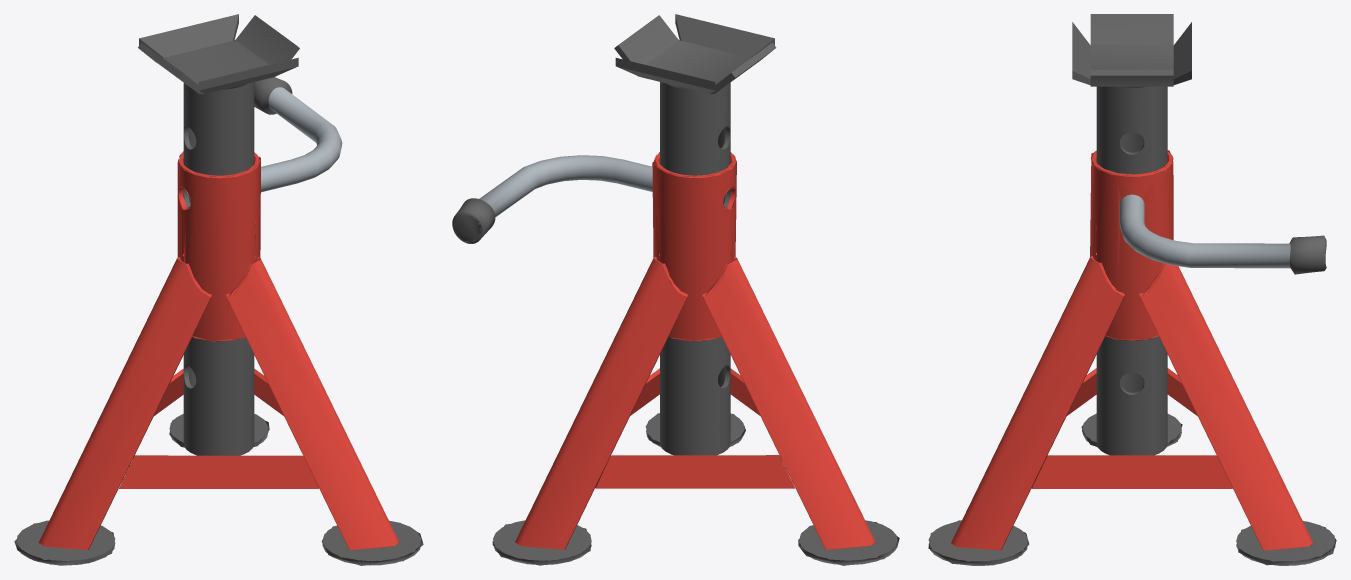
File: car jack.fbx
The picture shows the model from 3 angles, left to right: view 1: azimuth 30°, elevation 25°; view 2: azimuth 150°, elevation 25°; view 3: azimuth 270°, elevation 25°; orthographic projection.
Parts seen in each view (by area): view 1: _gltfNode_14, _gltfNode_1, _gltfNode_14.002; view 2: _gltfNode_14, _gltfNode_1, _gltfNode_14.002; view 3: _gltfNode_14, _gltfNode_1, _gltfNode_14.002.
Boxes of the visible parts, <box> form: _gltfNode_14: <box>14,151,423,565</box>; _gltfNode_1: <box>138,14,299,455</box>; _gltfNode_14.002: <box>254,77,342,192</box>; _gltfNode_14: <box>492,152,899,565</box>; _gltfNode_1: <box>614,14,776,455</box>; _gltfNode_14.002: <box>452,155,652,243</box>; _gltfNode_14: <box>928,150,1336,565</box>; _gltfNode_1: <box>1072,14,1191,455</box>; _gltfNode_14.002: <box>1119,194,1326,274</box>.
Size of the model in its own units: 514 by 651 by 517.
